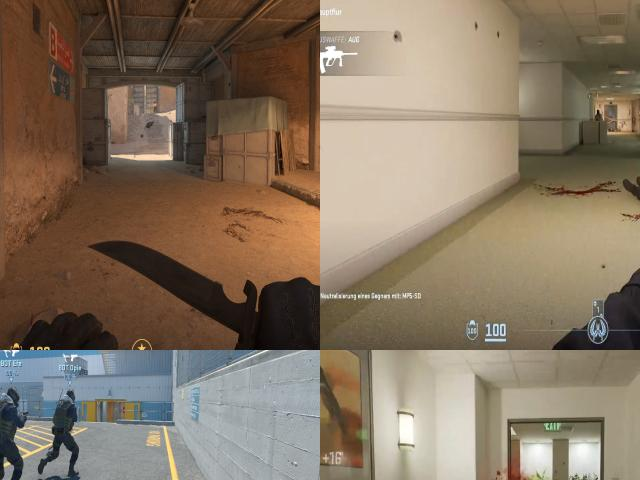CT: (51, 388, 79, 480), (0, 383, 21, 480)
CT-Head: (5, 387, 19, 404), (63, 388, 76, 404)
Dead: (140, 118, 158, 130)
T: (594, 108, 601, 120), (154, 100, 158, 115)
T-Head: (154, 101, 156, 103)
